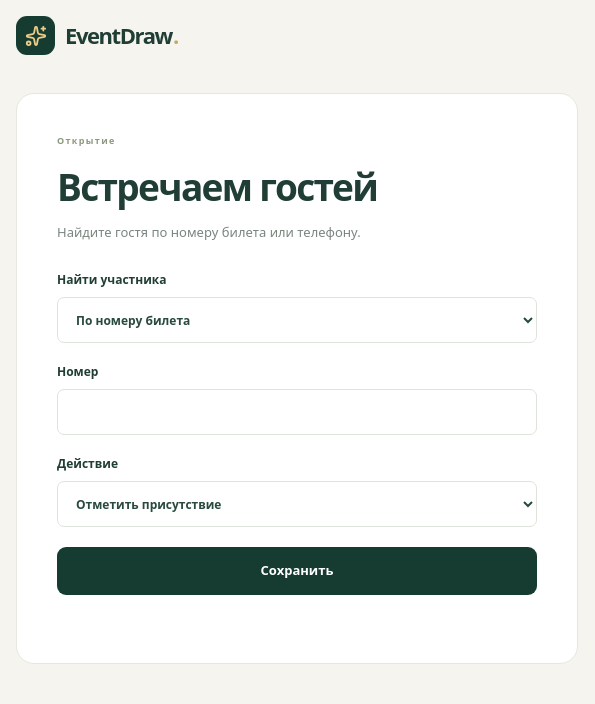
Test case: staff check-in › sends the phone to the protected service for server normalization
Select "По телефону" in the dropdown labelled "Найти участника" at x=297, y=320, box [57,298,537,344]
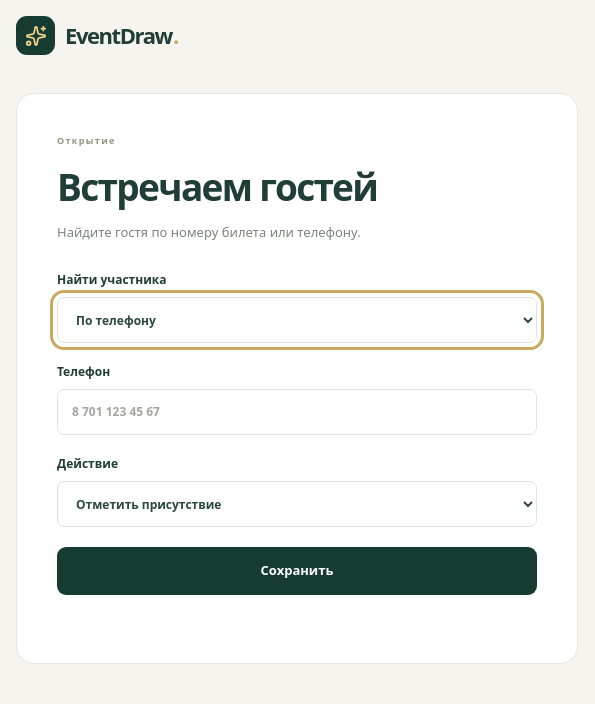
Type "8 (701) 123-45-67" into the field labelled "Телефон" at x=297, y=412, box [57,390,537,436]
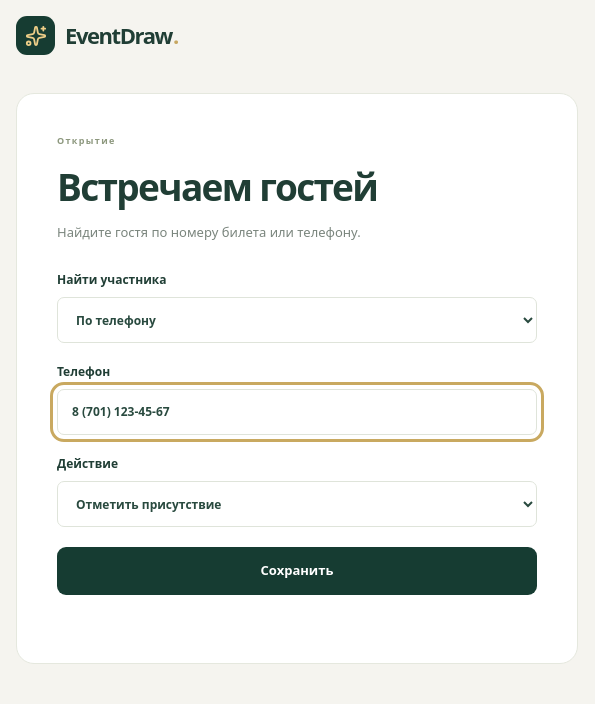
Click the button "Сохранить" at x=297, y=571, box [57,548,537,595]
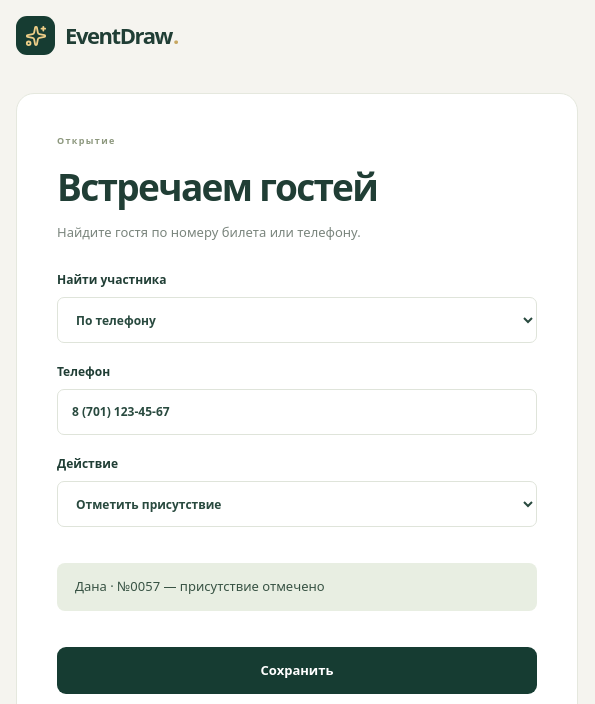
Expected: the text "Дана · №0057 — присутствие отмечено" is shown, [57,564,537,611]
